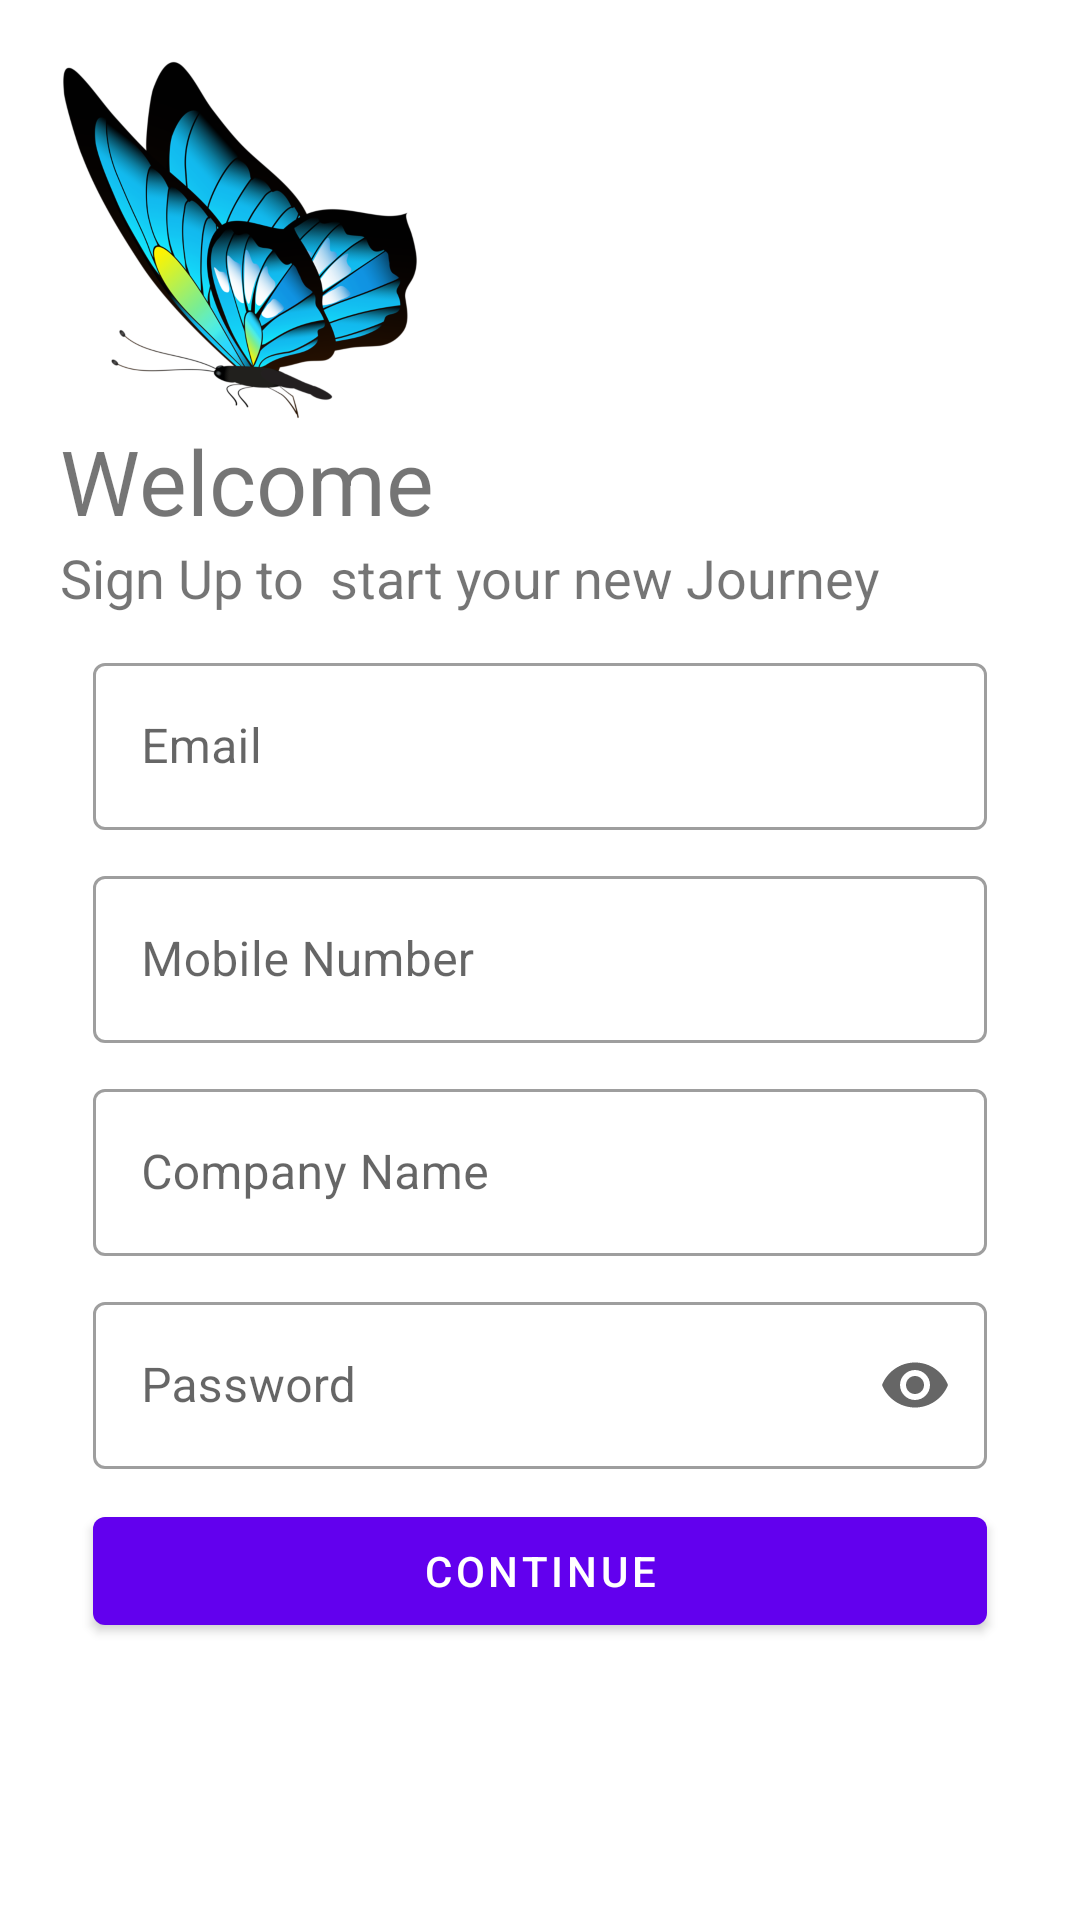

Icons on this 1080w x 1920h Android screen, each with its box as box(x1, y1, x2, y2):
butterfly: box(63, 62, 417, 418)
